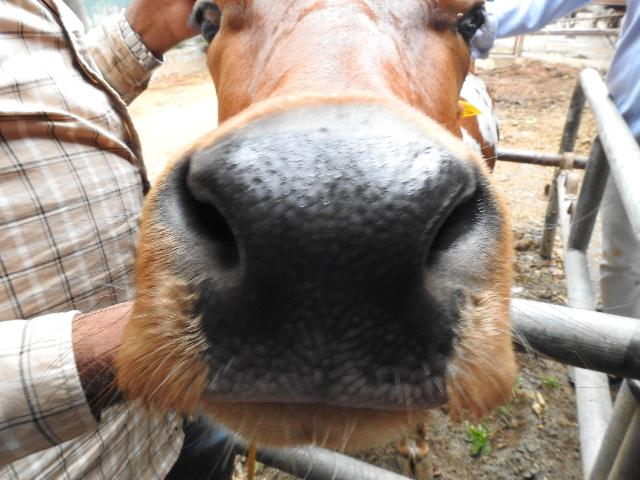Muzzle: (210, 143, 430, 397)
